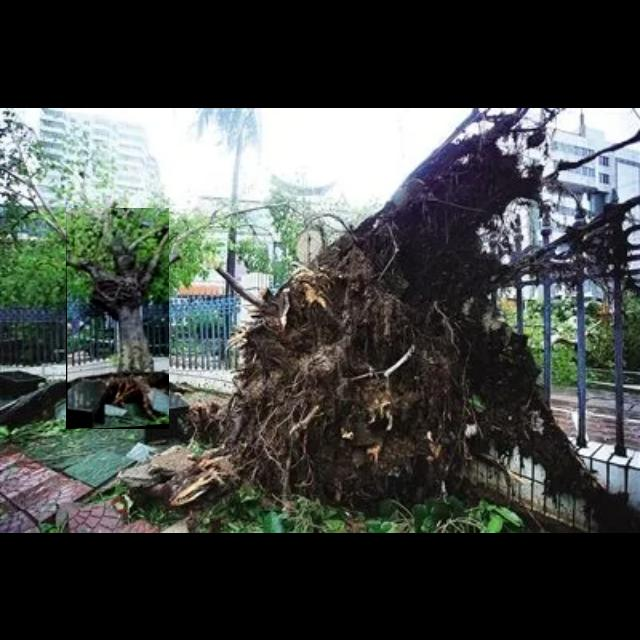Fallen Tree: (66, 208, 170, 430)
